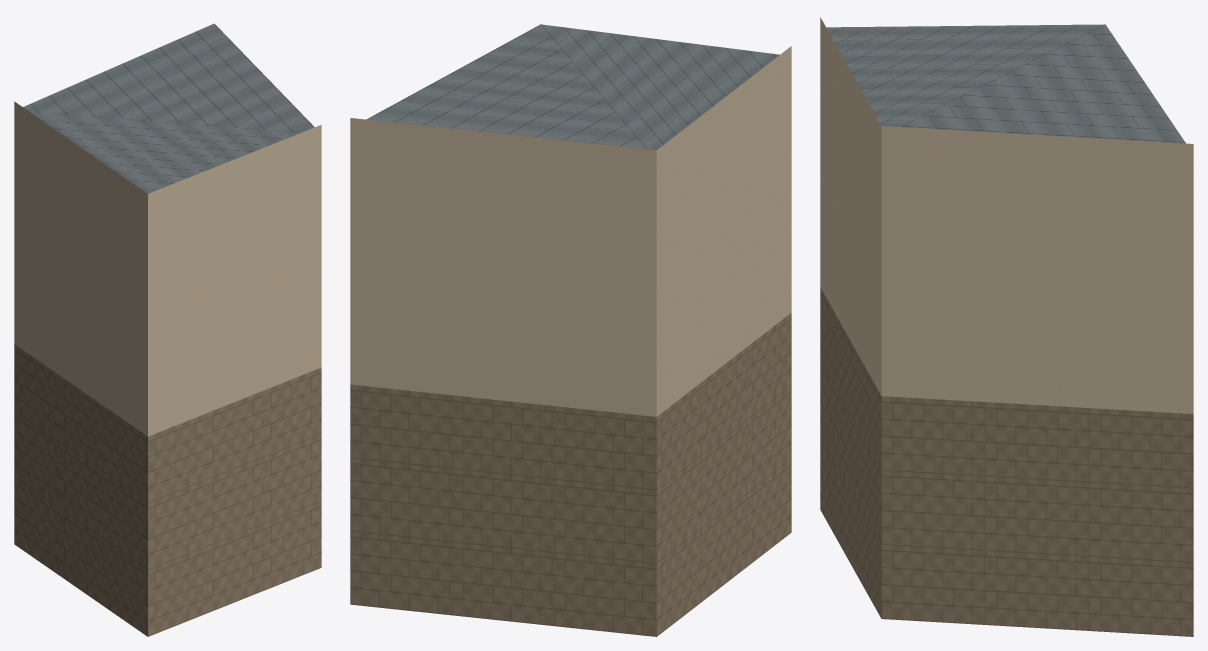
File: bld_c-3_1_539.gltf
3 renders of one model, left to right at view 1: azimuth 30°, elevation 25°; view 2: azimuth 150°, elevation 25°; view 3: azimuth 270°, elevation 25°, orthographic. The views are drawn at different scales.
Parts seen in each view (by area): view 1: bld_c-3_1_539; view 2: bld_c-3_1_539; view 3: bld_c-3_1_539.
Boxes of the visible parts, x1=… form: bld_c-3_1_539: x1=14, y1=23, x2=321, y2=636; bld_c-3_1_539: x1=350, y1=24, x2=791, y2=636; bld_c-3_1_539: x1=820, y1=17, x2=1193, y2=636.
Size of the model in its own units: 6.38 by 11.28 by 7.74.
Materials: 4 (4 with a texture image).
